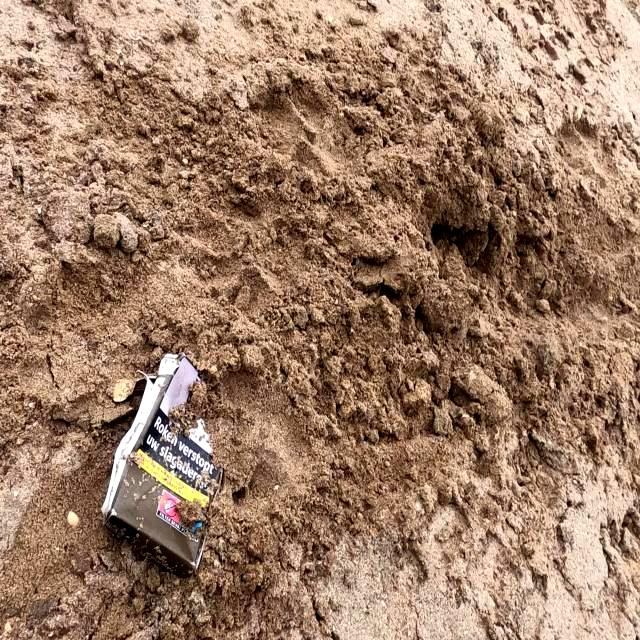Paper: (101, 346, 226, 576)
